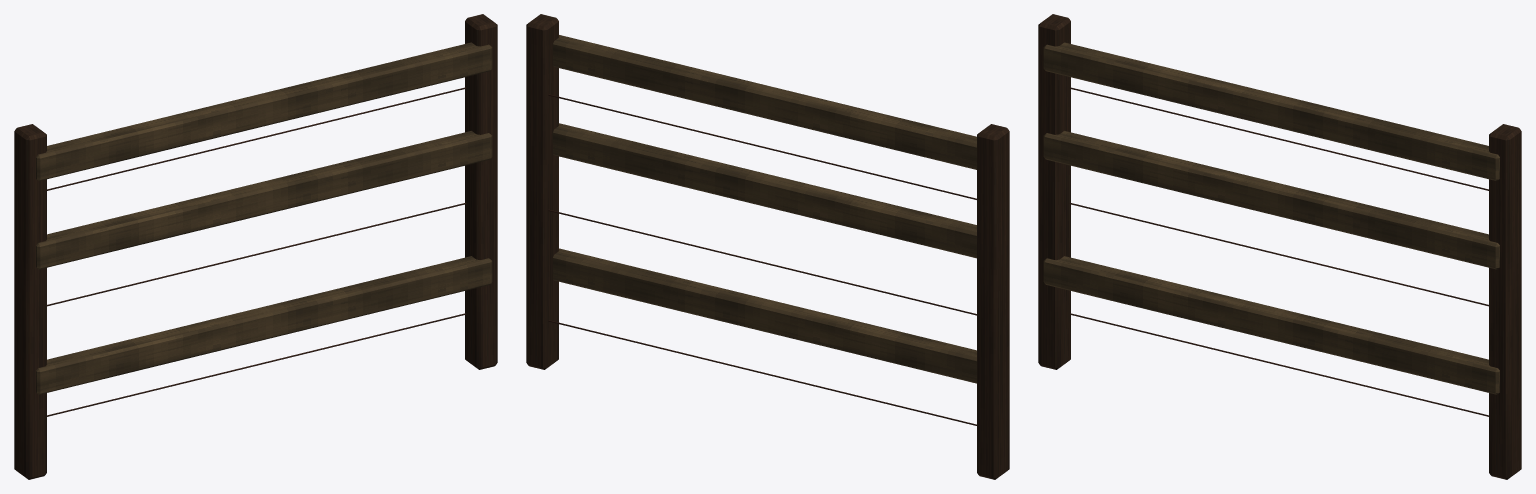
Rendered from level_enclosure_field_worn.glb.
3 views of the same model, side by side, from view 1: azimuth 30°, elevation 25°; view 2: azimuth 150°, elevation 25°; view 3: azimuth 330°, elevation 25° (orthographic).
Visible parts, largest first — view 1: level_enclosure_field_worn; view 2: level_enclosure_field_worn; view 3: level_enclosure_field_worn.
Part boxes in pixels (left/top/right/bottom): level_enclosure_field_worn: left=14, top=14, right=497, bottom=479; level_enclosure_field_worn: left=526, top=14, right=1009, bottom=479; level_enclosure_field_worn: left=1038, top=14, right=1521, bottom=479.
Size of the model in its own units: 2.01 by 1.4 by 0.1275.
Materials: 3 (3 with a texture image).
